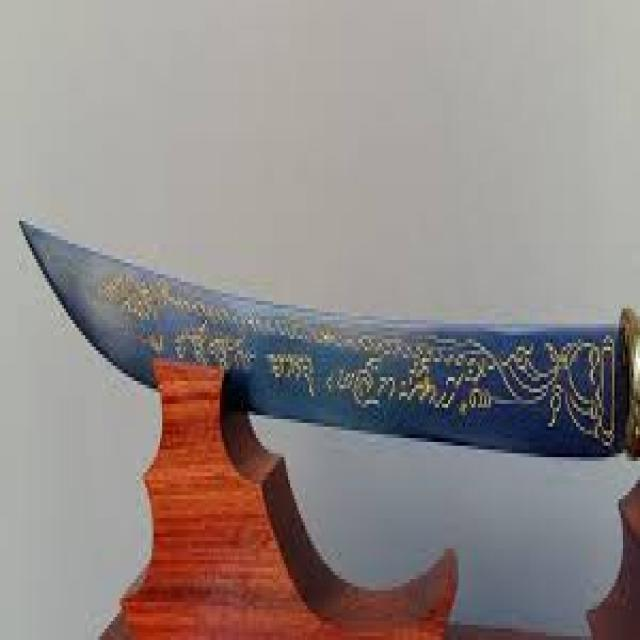long sword: (18, 210, 638, 471)
